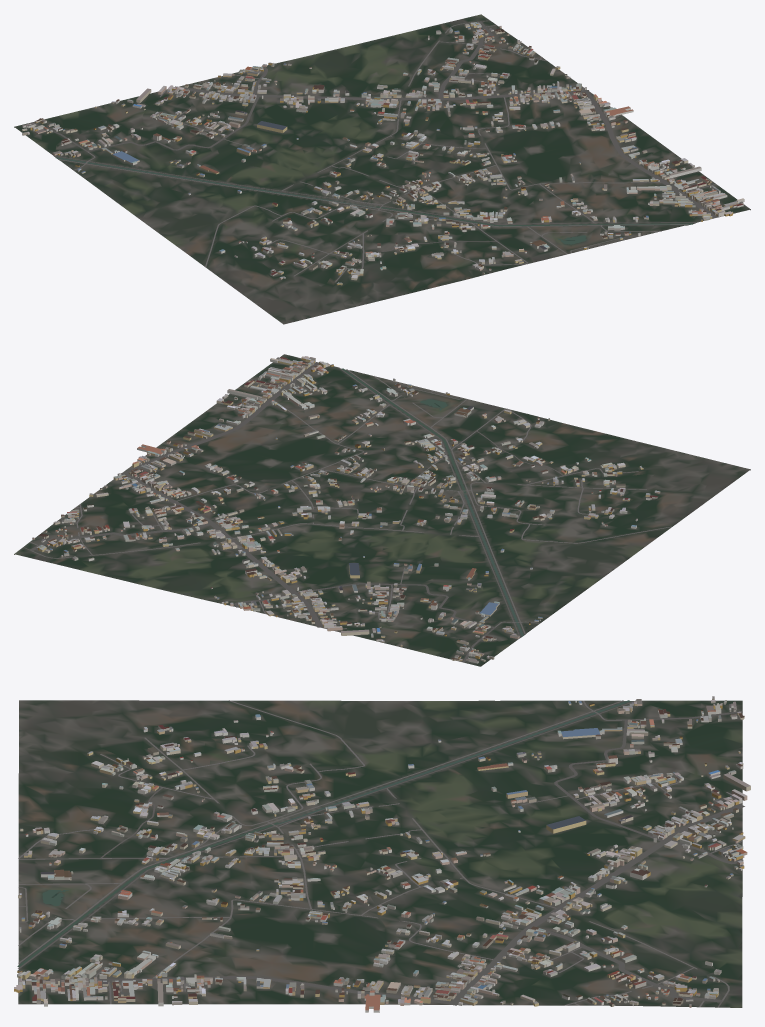
3 renders of one model, top to bottom at view 1: azimuth 30°, elevation 25°; view 2: azimuth 150°, elevation 25°; view 3: azimuth 270°, elevation 25°, orthographic. The views are drawn at different scales.
Visible parts, largest first — view 1: ground, buildings, roads, water; view 2: ground, buildings, roads, water; view 3: ground, buildings, roads, water.
Boxes of the visible parts, box(x1,y1,x2,y2) form: ground: box(14, 14, 750, 324); buildings: box(22, 22, 744, 285); roads: box(31, 20, 739, 282); water: box(56, 157, 692, 244); ground: box(14, 354, 750, 666); buildings: box(32, 356, 660, 663); roads: box(23, 362, 672, 662); water: box(341, 368, 523, 636); ground: box(18, 700, 742, 1007); buildings: box(14, 696, 750, 1012); roads: box(18, 700, 744, 1007); water: box(17, 700, 630, 966).
Size of the model in its own units: 1442 by 22.49 by 1426.
